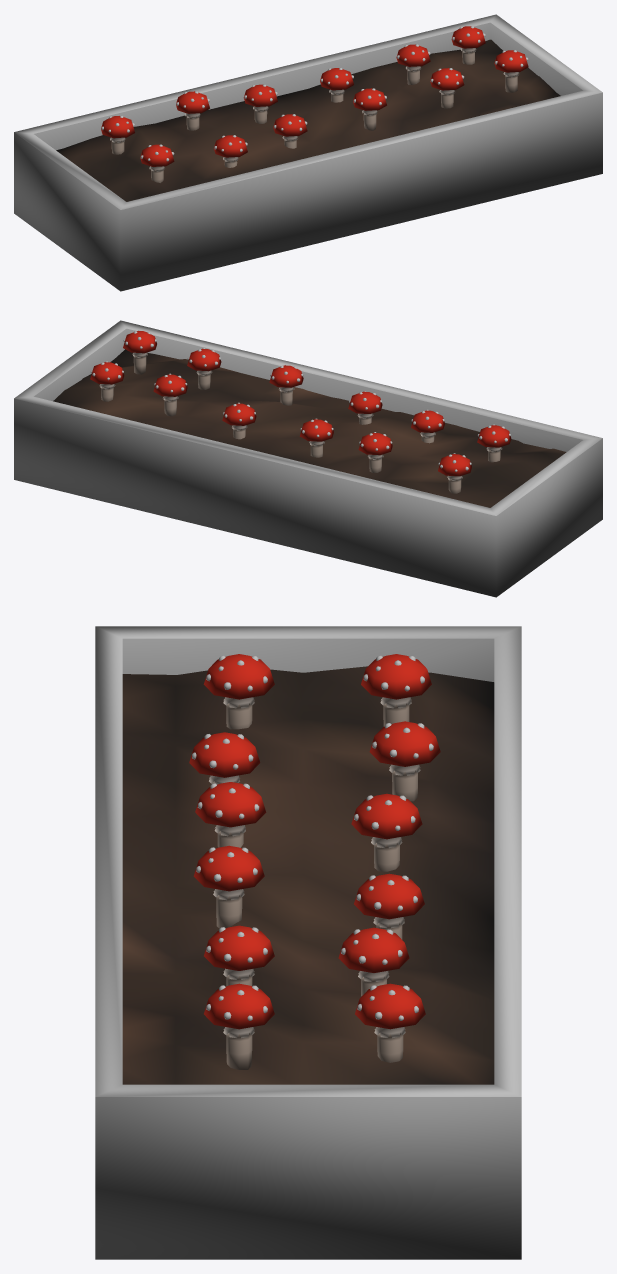
3 renders of one model, top to bottom at view 1: azimuth 30°, elevation 25°; view 2: azimuth 150°, elevation 25°; view 3: azimuth 270°, elevation 25°, orthographic. The views are drawn at different scales.
Visible parts, largest first — view 1: alt3.010; view 2: alt3.010; view 3: alt3.010.
Boxes of the visible parts, <box> form: alt3.010: <box>14,14,602,291</box>; alt3.010: <box>14,320,602,597</box>; alt3.010: <box>95,626,521,1259</box>.
Size of the model in its own units: 0.5 by 0.1085 by 0.1914.
